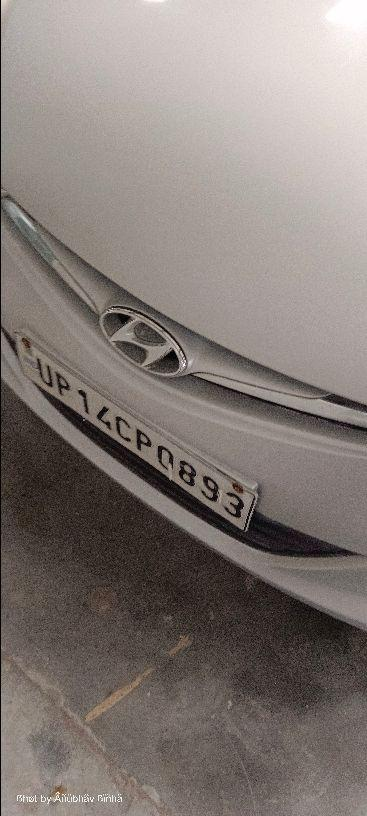license_plate: (1, 0, 365, 631), (12, 325, 260, 534)
